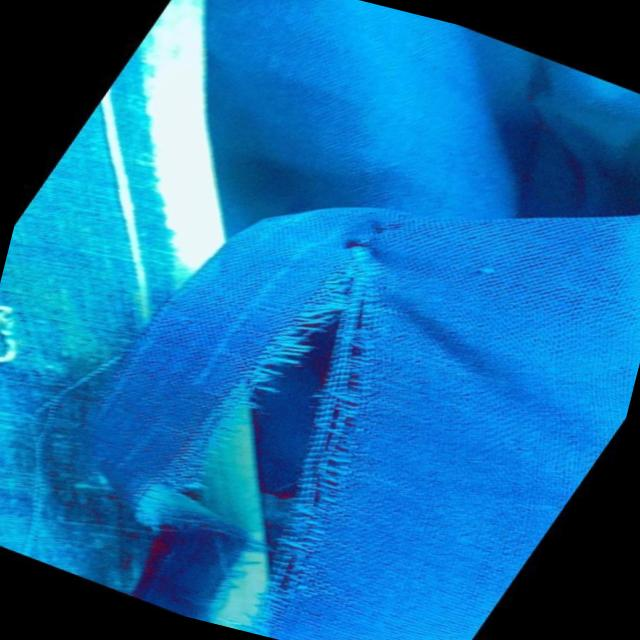cut: (64, 156, 522, 637)
